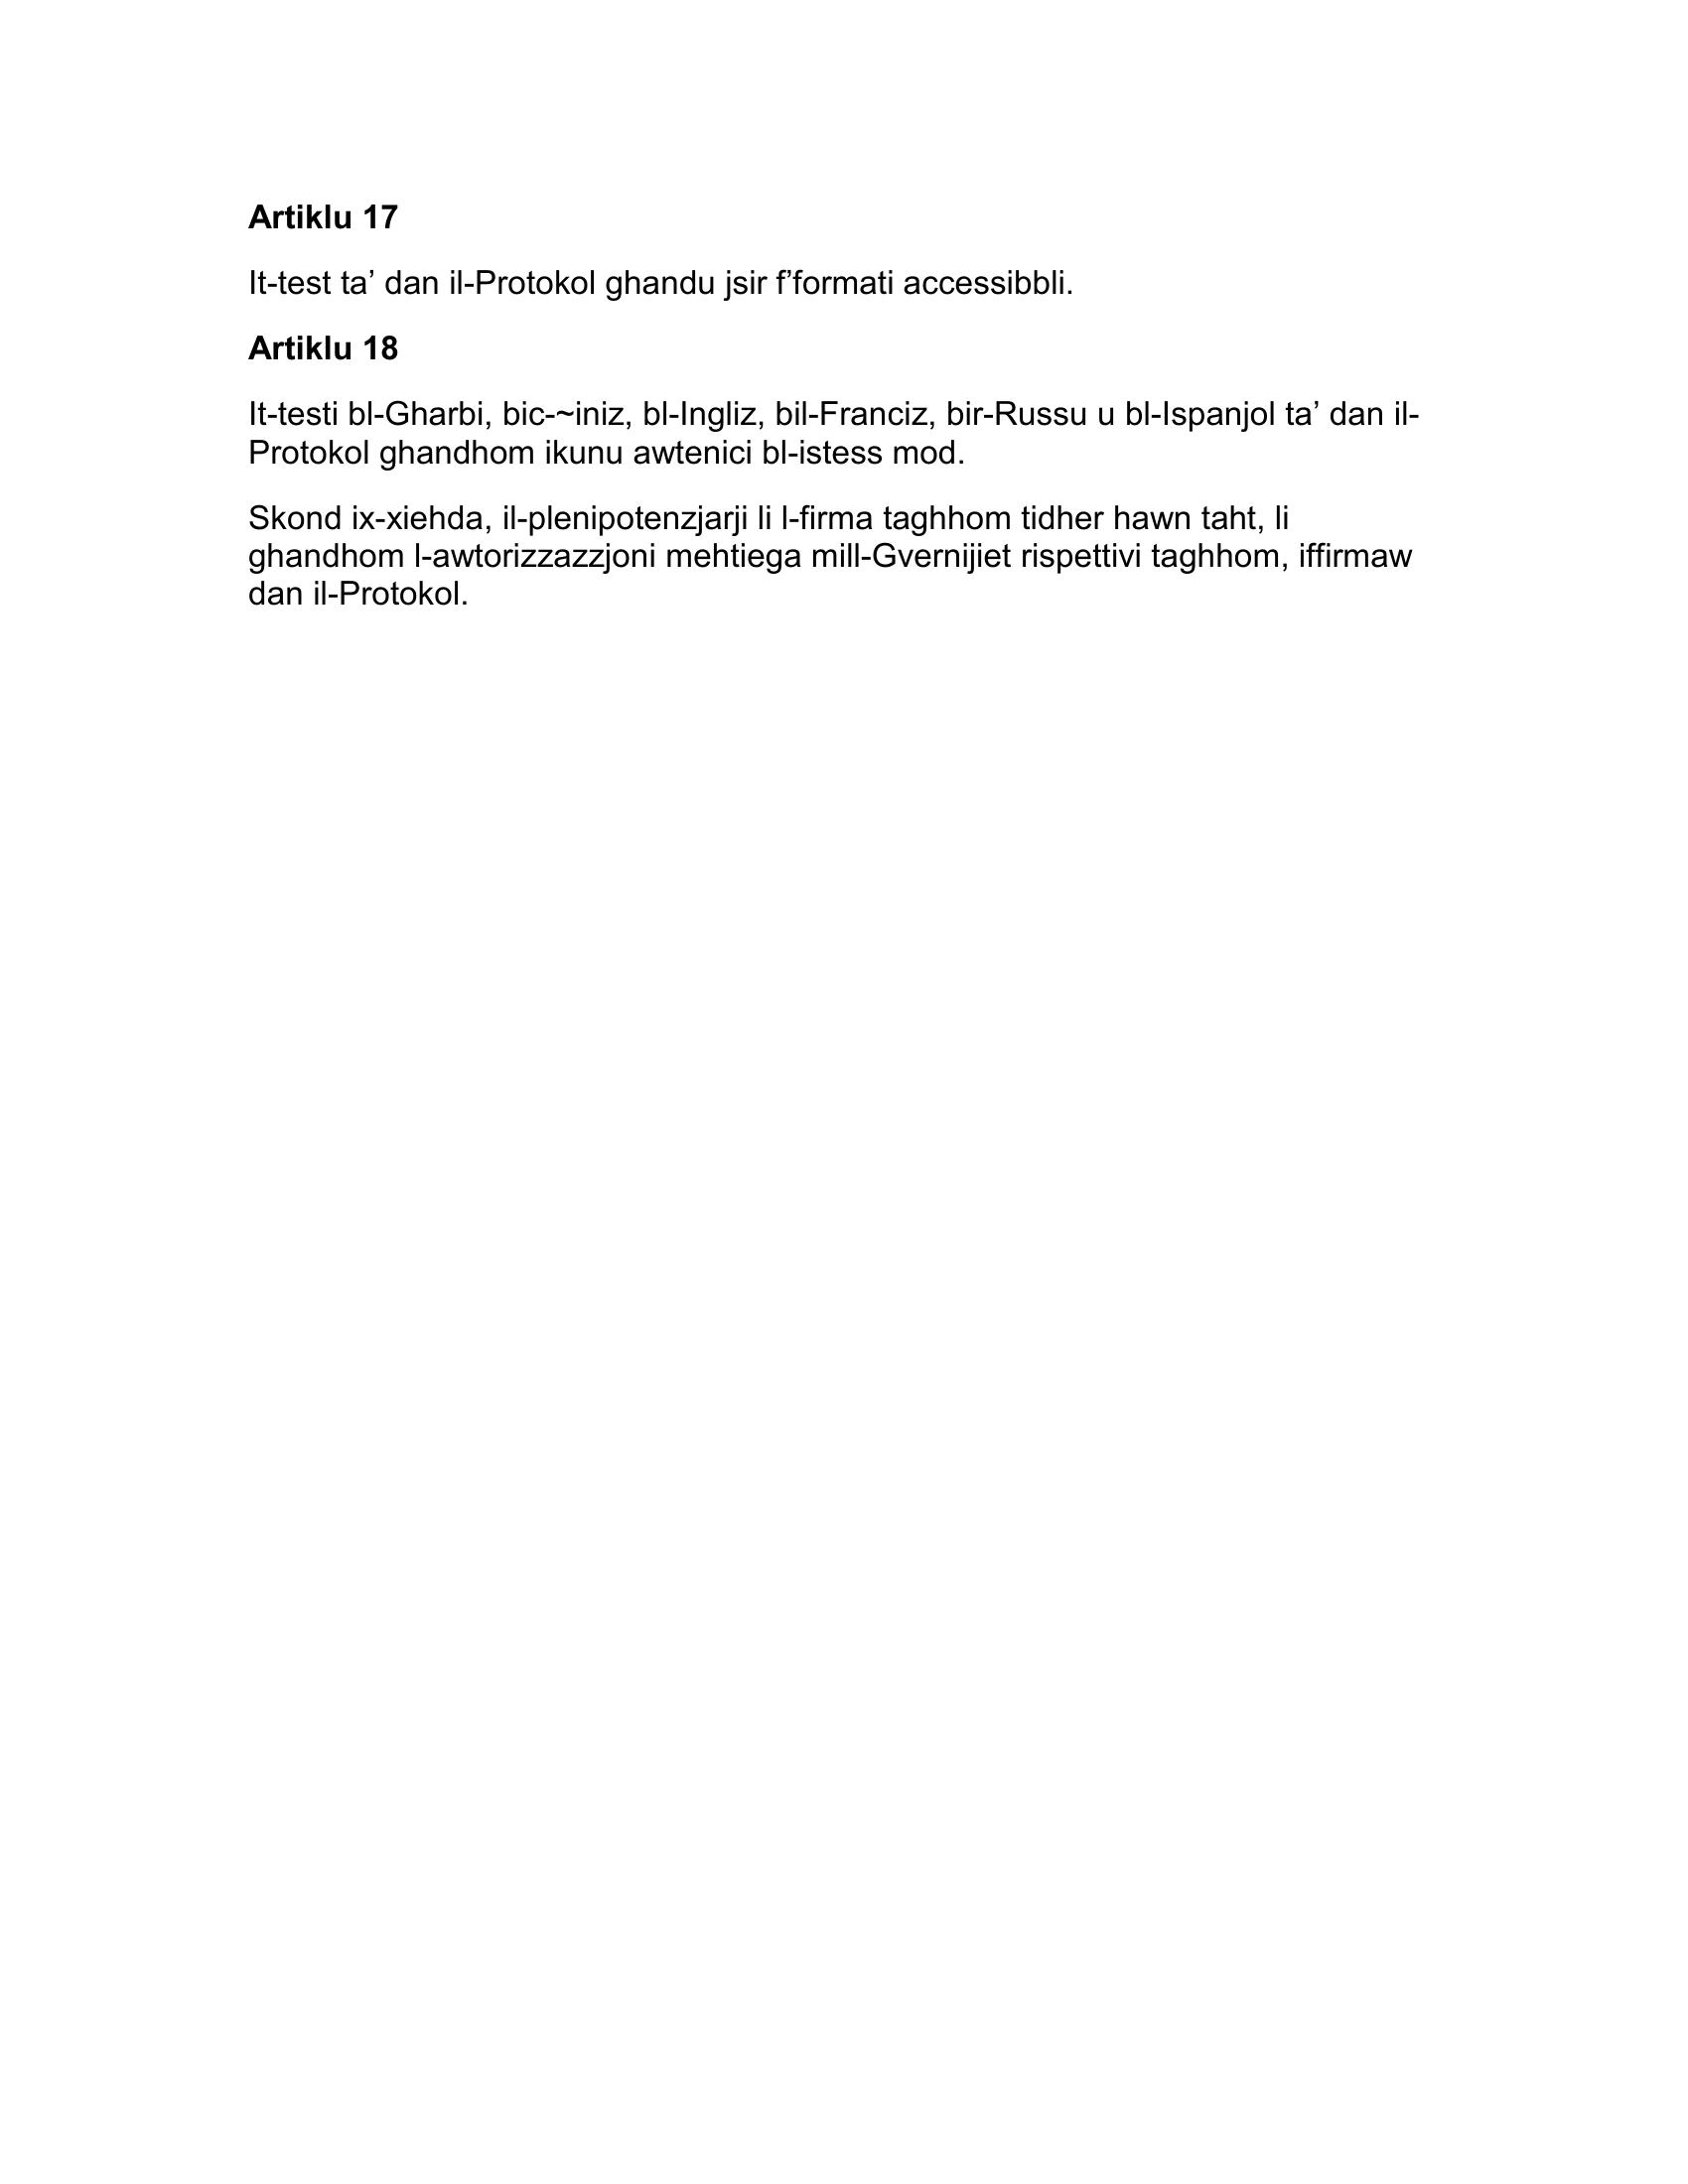text: (225, 179, 1442, 642)
